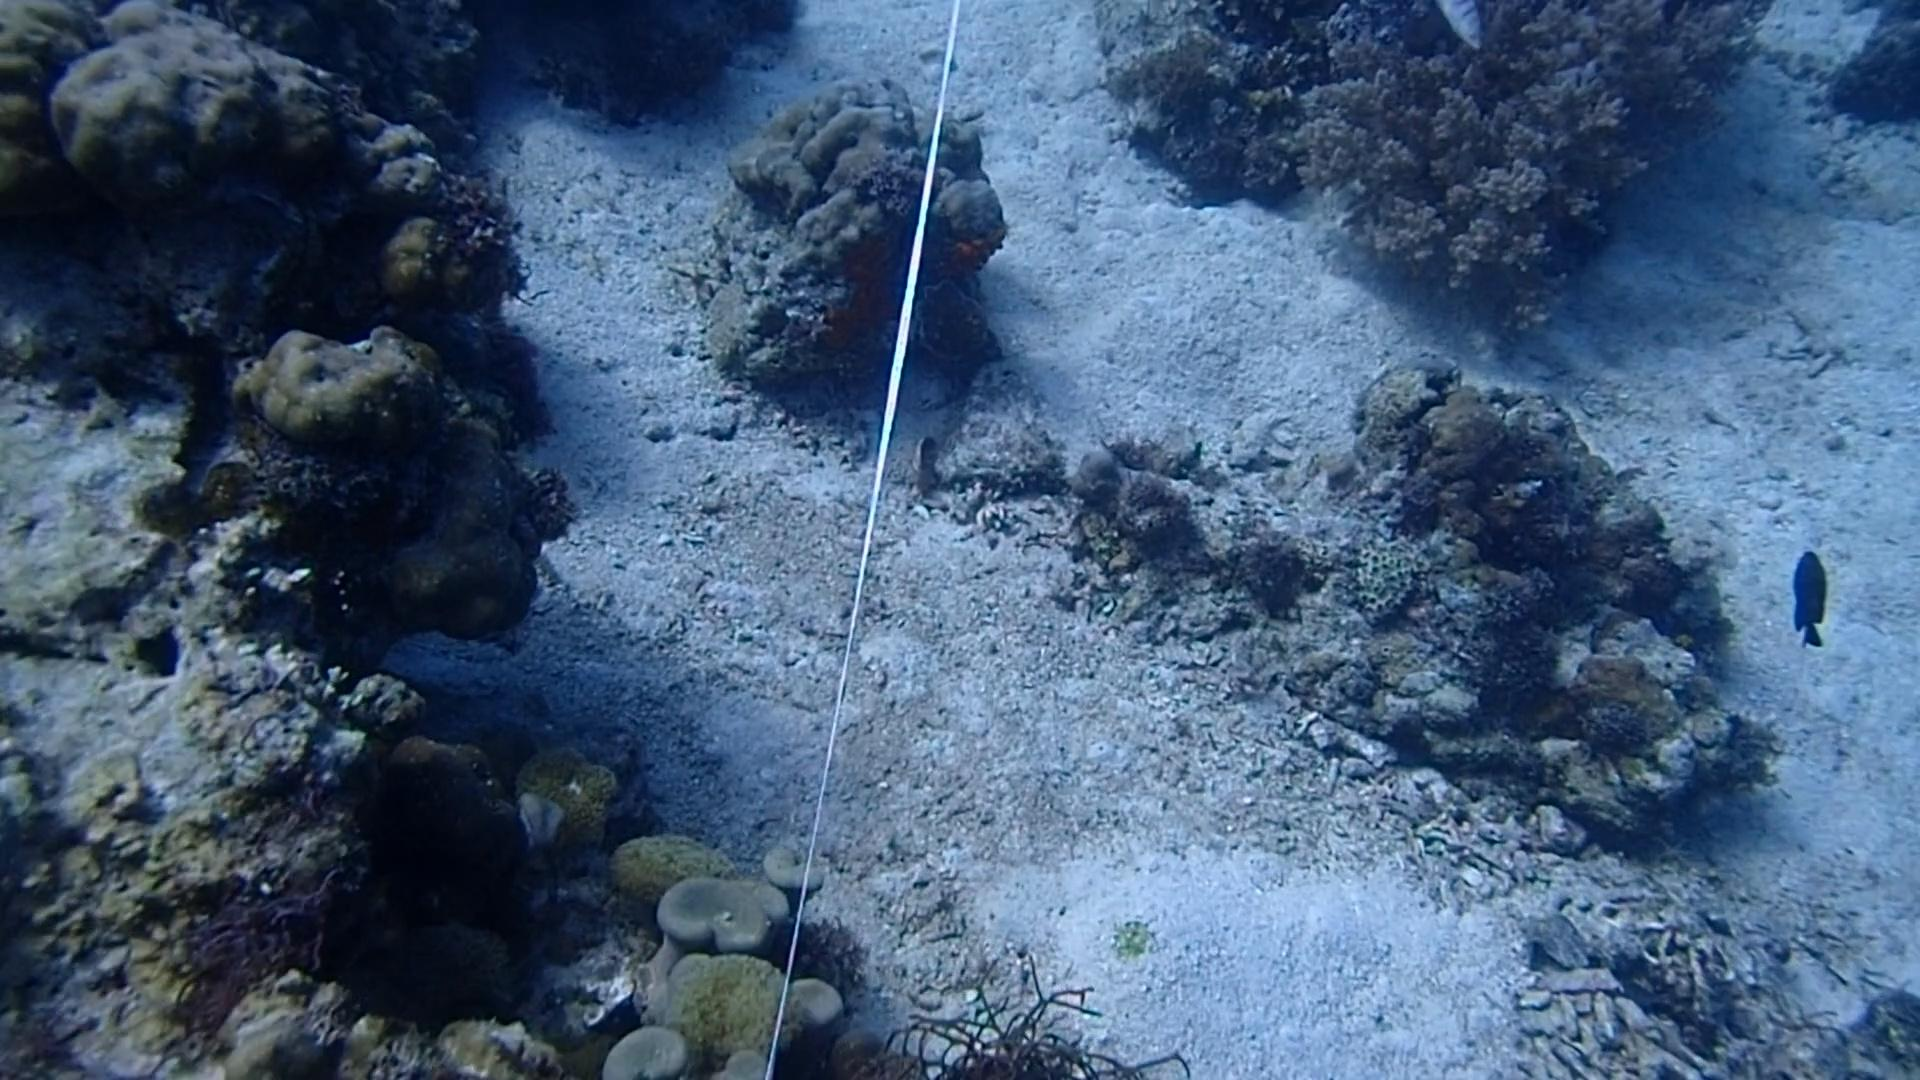Dark Fish: (1782, 542, 1837, 650)
